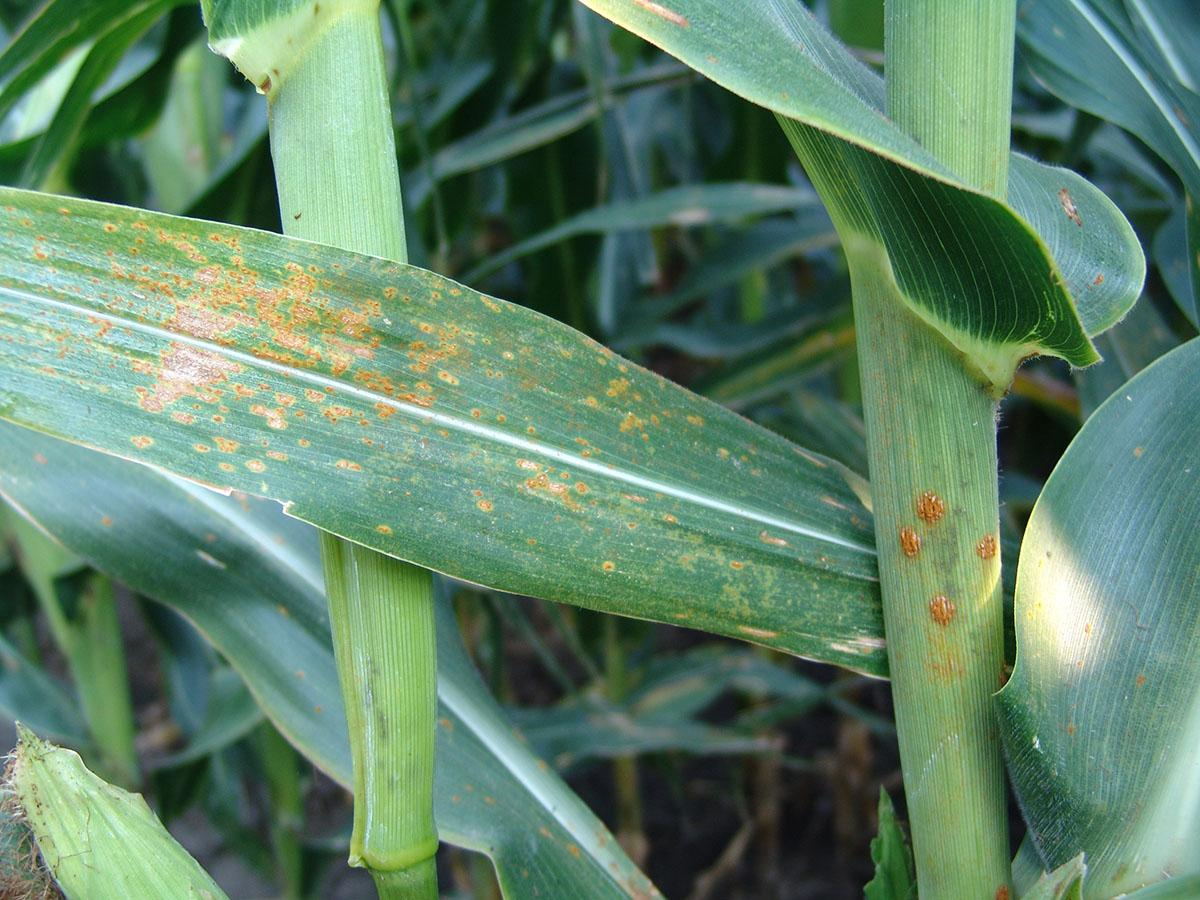Corn rust leaf: (4, 181, 1200, 720)
